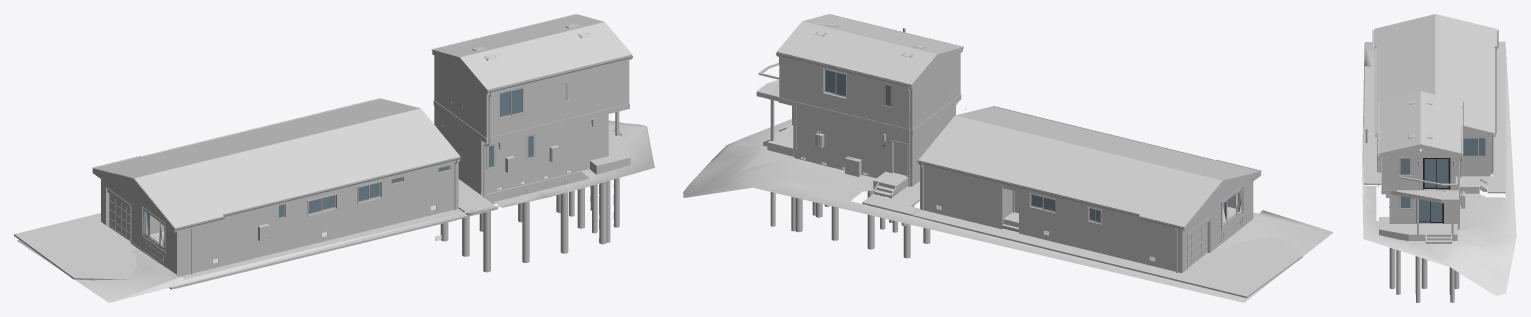
Rendered from adu.glb.
The picture shows the model from 3 angles, left to right: view 1: azimuth 30°, elevation 25°; view 2: azimuth 150°, elevation 25°; view 3: azimuth 270°, elevation 25°; orthographic projection. The views are drawn at different scales.
Parts seen in each view (by area): view 1: e0007, e0030, e0008, e0249, e0353, e0029, e0026, e0027, e0018, e0028, e0265, e0398 (+14 smaller); view 2: e0007, e0353, e0249, e0020, e0021, e0008, e0022, e0027, e0019, e0018, e0265, e0398 (+10 smaller); view 3: e0007, e0353, e0008, e0249, e0025, e0260, e0031, e0024, e0130, e0298, e0265, e0129 (+16 smaller).
Part boxes in pixels (x1,y1,x2,y2): e0007: [93, 98, 460, 232]; e0030: [176, 162, 455, 287]; e0008: [433, 14, 631, 89]; e0249: [14, 208, 467, 289]; e0353: [17, 120, 654, 302]; e0029: [486, 61, 626, 138]; e0026: [479, 114, 605, 191]; e0027: [434, 55, 486, 137]; e0018: [102, 175, 175, 273]; e0028: [435, 106, 479, 190]; e0265: [92, 98, 461, 230]; e0398: [433, 100, 629, 143]; e0007: [918, 106, 1259, 231]; e0353: [683, 119, 1333, 302]; e0249: [911, 209, 1302, 298]; e0020: [782, 57, 875, 174]; e0021: [1003, 185, 1183, 272]; e0008: [777, 14, 961, 84]; e0022: [920, 165, 1003, 229]; e0027: [909, 52, 960, 129]; e0019: [876, 80, 913, 183]; e0018: [1183, 178, 1252, 271]; e0265: [917, 106, 1261, 229]; e0398: [778, 94, 961, 134]; e0007: [1374, 14, 1496, 136]; e0353: [1362, 42, 1516, 295]; e0008: [1379, 91, 1461, 153]; e0249: [1364, 41, 1505, 172]; e0025: [1381, 148, 1459, 190]; e0260: [1379, 217, 1457, 240]; e0031: [1378, 129, 1490, 176]; e0024: [1389, 194, 1459, 228]; e0130: [1423, 158, 1450, 189]; e0298: [1364, 172, 1505, 193]; e0265: [1372, 29, 1498, 134]; e0129: [1416, 199, 1443, 223].
Size of the model in its own units: 37.66 by 12.12 by 11.01.
